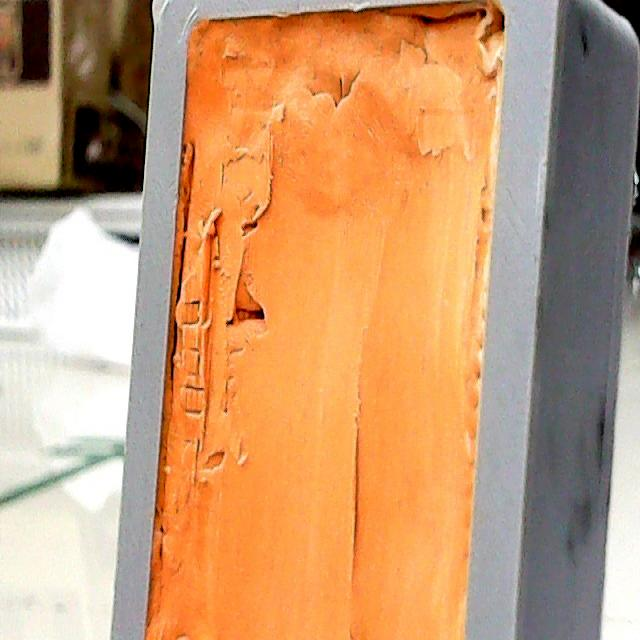block: (104, 0, 637, 636)
